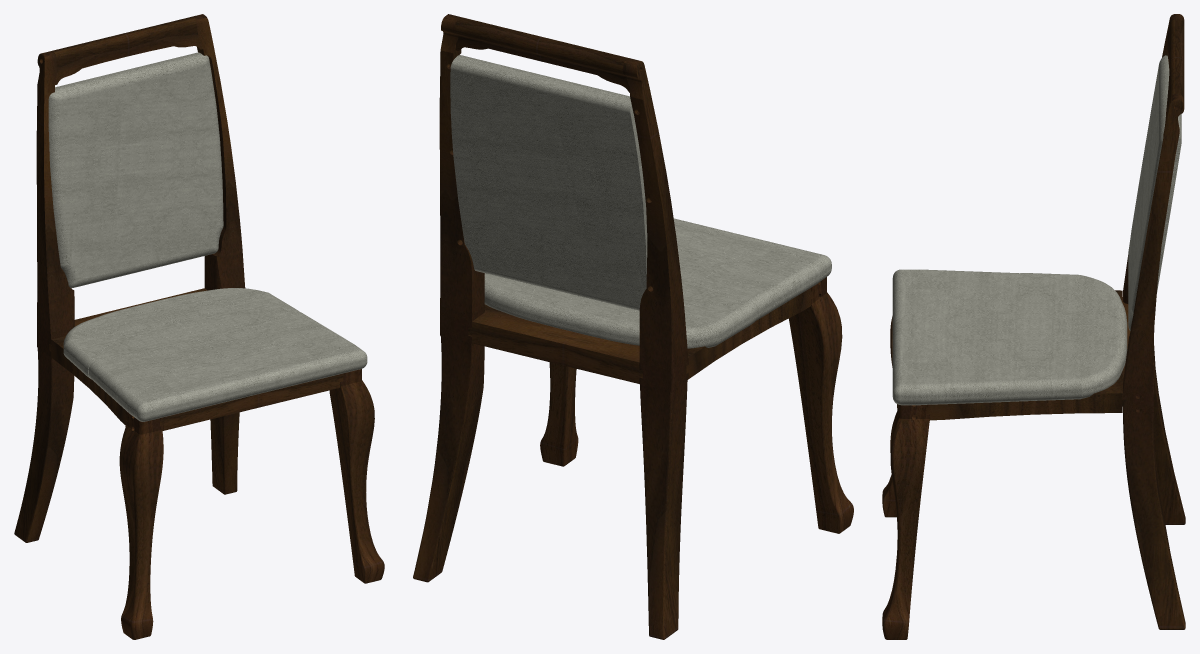
Rendered from windsor-side.glb.
3 views of the same model, side by side, from view 1: azimuth 30°, elevation 25°; view 2: azimuth 150°, elevation 25°; view 3: azimuth 270°, elevation 25° (orthographic). The views are drawn at different scales.
Visible parts, largest first — view 1: Windsor Dining Chair.002, Windsor Dining Chair, Windsor Dining Chair.003, Windsor Dining Chair.006, Windsor Dining Chair.001, Windsor Dining Chair.005, Windsor Dining Chair.007, Windsor Dining Chair.004; view 2: Windsor Dining Chair.002, Windsor Dining Chair.003, Windsor Dining Chair, Windsor Dining Chair.001, Windsor Dining Chair.007, Windsor Dining Chair.006, Windsor Dining Chair.004, Windsor Dining Chair.005; view 3: Windsor Dining Chair, Windsor Dining Chair.001, Windsor Dining Chair.005, Windsor Dining Chair.002, Windsor Dining Chair.007, Windsor Dining Chair.003, Windsor Dining Chair.004, Windsor Dining Chair.006.
Part boxes in pixels (<box>): Windsor Dining Chair.002: <box>48,52,223,287</box>; Windsor Dining Chair: <box>63,288,367,421</box>; Windsor Dining Chair.003: <box>14,51,74,542</box>; Windsor Dining Chair.006: <box>119,411,163,639</box>; Windsor Dining Chair.001: <box>193,14,245,494</box>; Windsor Dining Chair.005: <box>329,369,384,583</box>; Windsor Dining Chair.007: <box>49,288,343,430</box>; Windsor Dining Chair.004: <box>52,16,202,84</box>; Windsor Dining Chair.002: <box>450,55,647,310</box>; Windsor Dining Chair.003: <box>622,58,688,639</box>; Windsor Dining Chair: <box>484,218,831,348</box>; Windsor Dining Chair.001: <box>413,14,484,582</box>; Windsor Dining Chair.007: <box>468,288,813,383</box>; Windsor Dining Chair.006: <box>788,277,853,533</box>; Windsor Dining Chair.004: <box>455,17,629,92</box>; Windsor Dining Chair.005: <box>540,362,578,466</box>; Windsor Dining Chair: <box>892,269,1127,405</box>; Windsor Dining Chair.001: <box>1123,93,1185,629</box>; Windsor Dining Chair.005: <box>882,404,929,639</box>; Windsor Dining Chair.002: <box>1128,55,1181,330</box>; Windsor Dining Chair.007: <box>926,290,1153,420</box>; Windsor Dining Chair.003: <box>1123,14,1185,524</box>; Windsor Dining Chair.004: <box>1165,19,1184,124</box>; Windsor Dining Chair.006: <box>882,316,898,517</box>.
Size of the model in its own units: 0.5372 by 0.9679 by 0.5132.
Materials: 2 (2 with a texture image).
